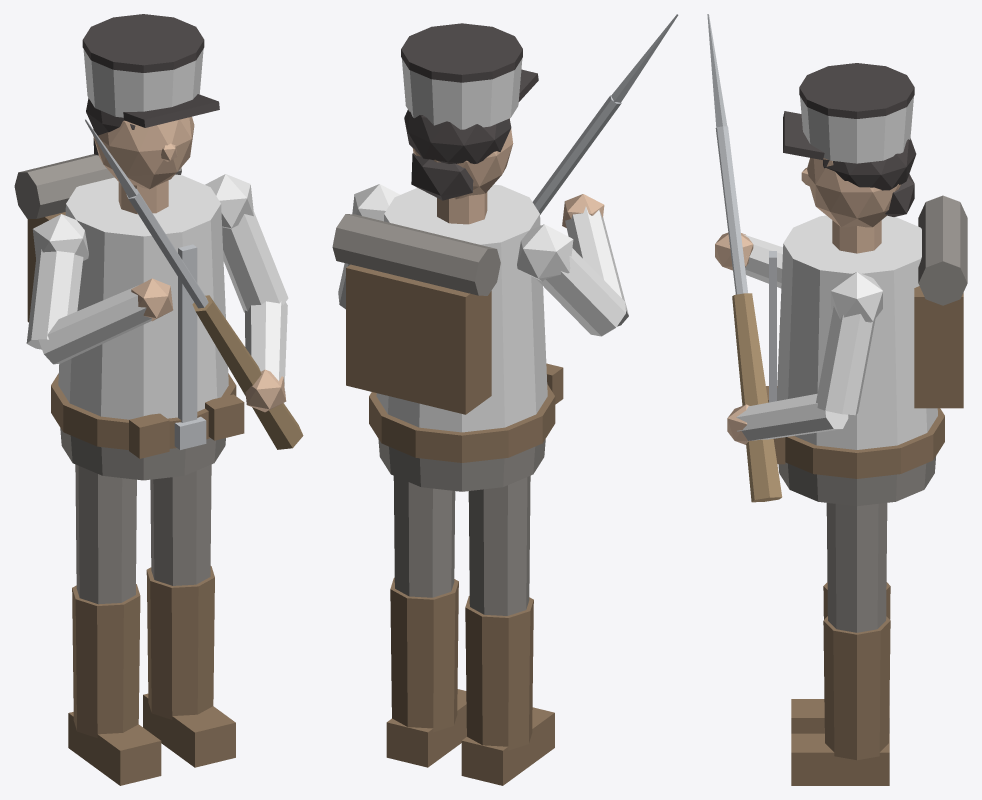
Rendered from civ_unit_rifleman.glb.
The picture shows the model from 3 angles, left to right: view 1: azimuth 30°, elevation 25°; view 2: azimuth 150°, elevation 25°; view 3: azimuth 270°, elevation 25°; orthographic projection. The views are drawn at different scales.
Visible parts, largest first — view 1: civ_unit_rifleman; view 2: civ_unit_rifleman; view 3: civ_unit_rifleman.
Part boxes in pixels (x1,y1,x2,y2): civ_unit_rifleman: (14, 14, 303, 785); civ_unit_rifleman: (332, 14, 678, 785); civ_unit_rifleman: (707, 14, 967, 785).
Bounding box in the file's own units: 0.7207 × 1.84 × 0.6353.
